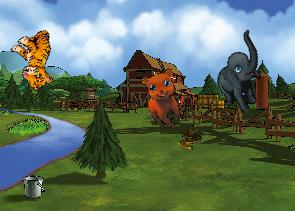bear: (133, 63, 197, 133)
elephant: (200, 29, 282, 117)
tiger: (4, 24, 70, 93)
